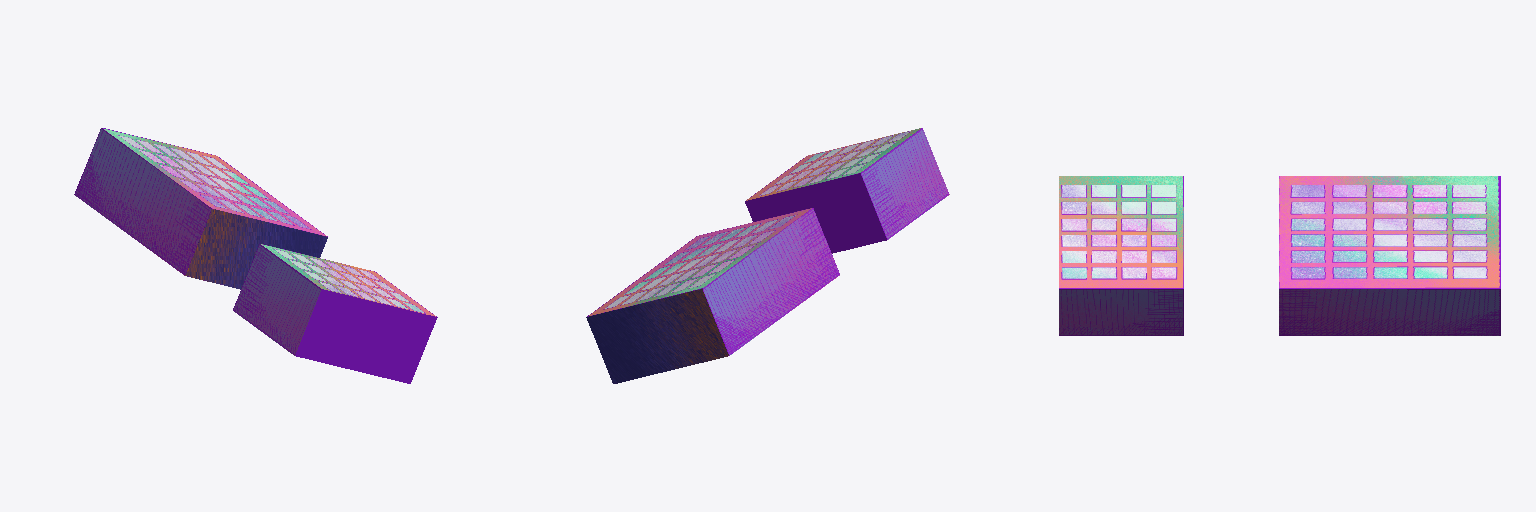
3 views of the same model, side by side, from view 1: azimuth 30°, elevation 25°; view 2: azimuth 150°, elevation 25°; view 3: azimuth 270°, elevation 25° (orthographic).
Parts seen in each view (by area): view 1: Build_C_Top, Build_C_Bot; view 2: Build_C_Top, Build_C_Bot; view 3: Build_C_Top, Build_C_Bot.
Boxes of the visible parts, <box> form: Build_C_Top: <box>74,128,327,289</box>; Build_C_Bot: <box>233,244,437,383</box>; Build_C_Top: <box>586,208,839,383</box>; Build_C_Bot: <box>745,128,949,253</box>; Build_C_Top: <box>1279,176,1500,335</box>; Build_C_Bot: <box>1059,176,1183,335</box>.
Size of the model in its own units: 0.2862 by 0.2242 by 0.7629.
Materials: 1 (1 with a texture image).